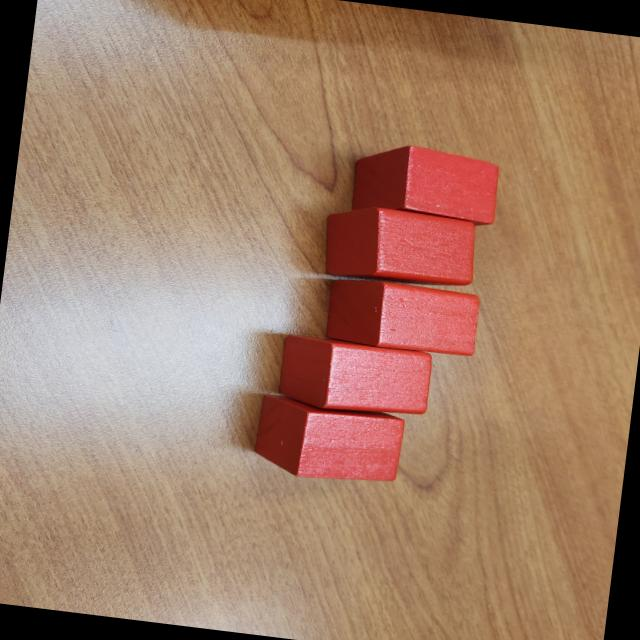red: (248, 393, 406, 489), (318, 200, 482, 292), (343, 135, 505, 228), (277, 332, 434, 422), (325, 274, 484, 359)
